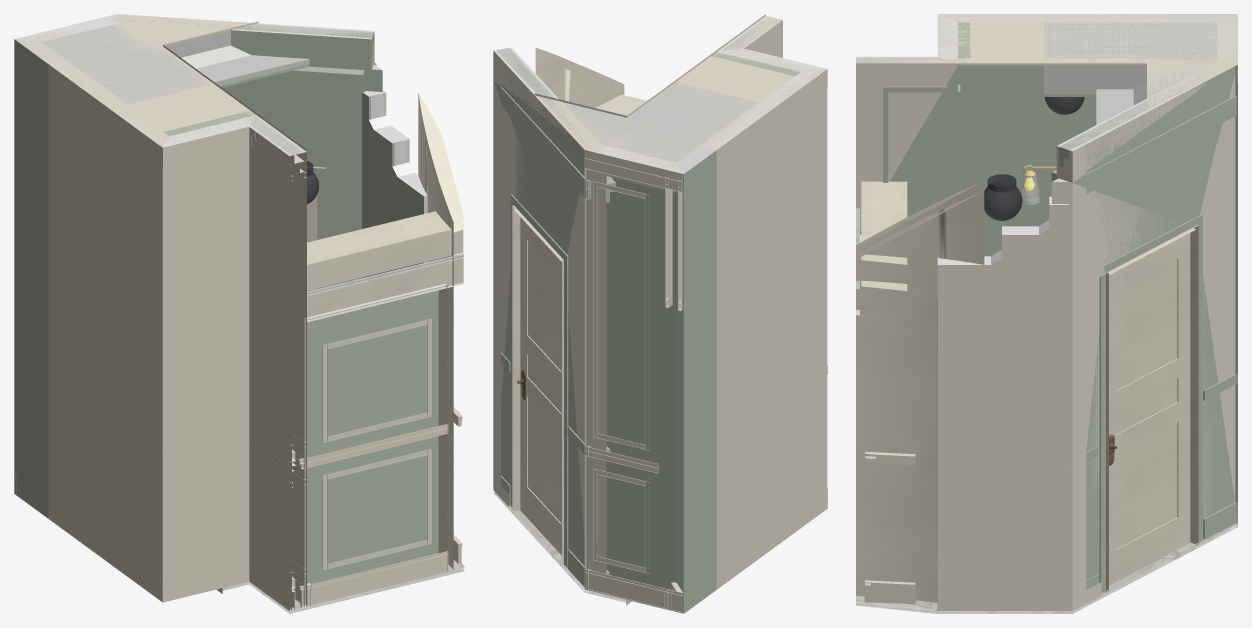
Rendered from powder-room-483c6bc23ece.glb.
3 views of the same model, side by side, from view 1: azimuth 30°, elevation 25°; view 2: azimuth 150°, elevation 25°; view 3: azimuth 270°, elevation 25° (orthographic). The views are drawn at different scales.
Visible parts, largest first — view 1: powder-room-d33eebe572d154f2, powder-room-1a8091885ac212af, powder-room-ab5cb5e7d303dd66, powder-room-85f0fd939e0fcc78, powder-room-9b21989b25895c4a, powder-room-a5eabba2ad6474eb, powder-room-2575515a05775d9e, powder-room-5b07a8f5f7929ff6, powder-room-ca6eafacc0f493ac, powder-room-3d7935a3f1355396, powder-room-261aa5c5ae0f77af, powder-room-b74e3495b7e70350 (+11 smaller); view 2: powder-room-d33eebe572d154f2, powder-room-a5eabba2ad6474eb, powder-room-b2b5f93b4255576d, powder-room-9b21989b25895c4a, powder-room-539cd4ce99668665, powder-room-2575515a05775d9e, powder-room-5b07a8f5f7929ff6, powder-room-86d6fc7292b21ae1, powder-room-ae2ab6de1156d266, powder-room-48dc2409da547ff7, powder-room-b74e3495b7e70350, powder-room-f5fbb4dd3b92b4c5 (+14 smaller); view 3: powder-room-d65b0a574c2ac13c, powder-room-a5eabba2ad6474eb, powder-room-b74e3495b7e70350, powder-room-539cd4ce99668665, powder-room-2575515a05775d9e, powder-room-d33eebe572d154f2, powder-room-85f0fd939e0fcc78, powder-room-5b07a8f5f7929ff6, powder-room-48dc2409da547ff7, powder-room-86d6fc7292b21ae1, powder-room-48dd1d74e06d76de, powder-room-ca6eafacc0f493ac (+17 smaller).
Part boxes in pixels (bbox=[...]): powder-room-d33eebe572d154f2: bbox=[48, 60, 167, 601]; powder-room-1a8091885ac212af: bbox=[163, 116, 255, 602]; powder-room-ab5cb5e7d303dd66: bbox=[306, 283, 447, 605]; powder-room-85f0fd939e0fcc78: bbox=[243, 115, 306, 610]; powder-room-9b21989b25895c4a: bbox=[14, 39, 64, 518]; powder-room-a5eabba2ad6474eb: bbox=[97, 14, 382, 286]; powder-room-2575515a05775d9e: bbox=[14, 14, 306, 155]; powder-room-5b07a8f5f7929ff6: bbox=[42, 24, 309, 104]; powder-room-ca6eafacc0f493ac: bbox=[307, 211, 463, 290]; powder-room-3d7935a3f1355396: bbox=[362, 92, 426, 277]; powder-room-261aa5c5ae0f77af: bbox=[306, 258, 464, 322]; powder-room-b74e3495b7e70350: bbox=[418, 103, 464, 570]; powder-room-d33eebe572d154f2: bbox=[701, 69, 827, 589]; powder-room-a5eabba2ad6474eb: bbox=[493, 47, 606, 589]; powder-room-b2b5f93b4255576d: bbox=[584, 145, 683, 593]; powder-room-9b21989b25895c4a: bbox=[676, 146, 716, 613]; powder-room-539cd4ce99668665: bbox=[520, 217, 561, 555]; powder-room-2575515a05775d9e: bbox=[534, 14, 826, 173]; powder-room-5b07a8f5f7929ff6: bbox=[562, 82, 758, 162]; powder-room-86d6fc7292b21ae1: bbox=[512, 205, 563, 565]; powder-room-ae2ab6de1156d266: bbox=[593, 181, 649, 450]; powder-room-48dc2409da547ff7: bbox=[510, 194, 568, 567]; powder-room-b74e3495b7e70350: bbox=[535, 57, 624, 107]; powder-room-f5fbb4dd3b92b4c5: bbox=[585, 569, 682, 613]; powder-room-d65b0a574c2ac13c: bbox=[937, 204, 1068, 610]; powder-room-a5eabba2ad6474eb: bbox=[1052, 54, 1235, 610]; powder-room-b74e3495b7e70350: bbox=[856, 191, 984, 610]; powder-room-539cd4ce99668665: bbox=[1109, 233, 1190, 585]; powder-room-2575515a05775d9e: bbox=[856, 14, 1237, 110]; powder-room-d33eebe572d154f2: bbox=[938, 14, 1169, 256]; powder-room-85f0fd939e0fcc78: bbox=[856, 56, 957, 234]; powder-room-5b07a8f5f7929ff6: bbox=[1044, 22, 1217, 124]; powder-room-48dc2409da547ff7: bbox=[1099, 214, 1202, 594]; powder-room-86d6fc7292b21ae1: bbox=[1106, 225, 1198, 592]; powder-room-48dd1d74e06d76de: bbox=[1086, 96, 1236, 193]; powder-room-ca6eafacc0f493ac: bbox=[861, 181, 907, 290].
Bounding box in the file's own units: 1.92 × 3.05 × 2.26.
Materials: 27 (5 with a texture image).
